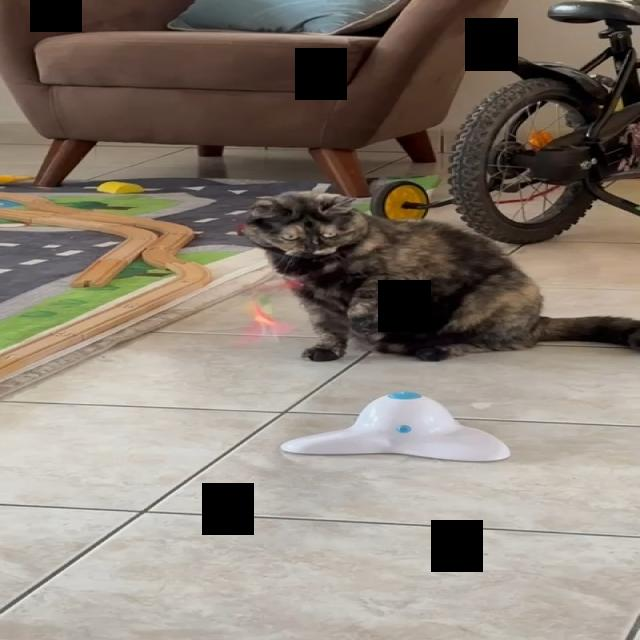authorized: (237, 190, 639, 362)
